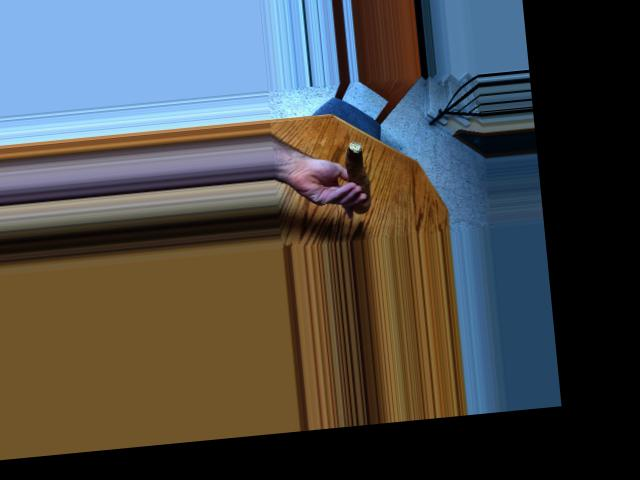sweet_potato: (346, 148, 378, 208)
